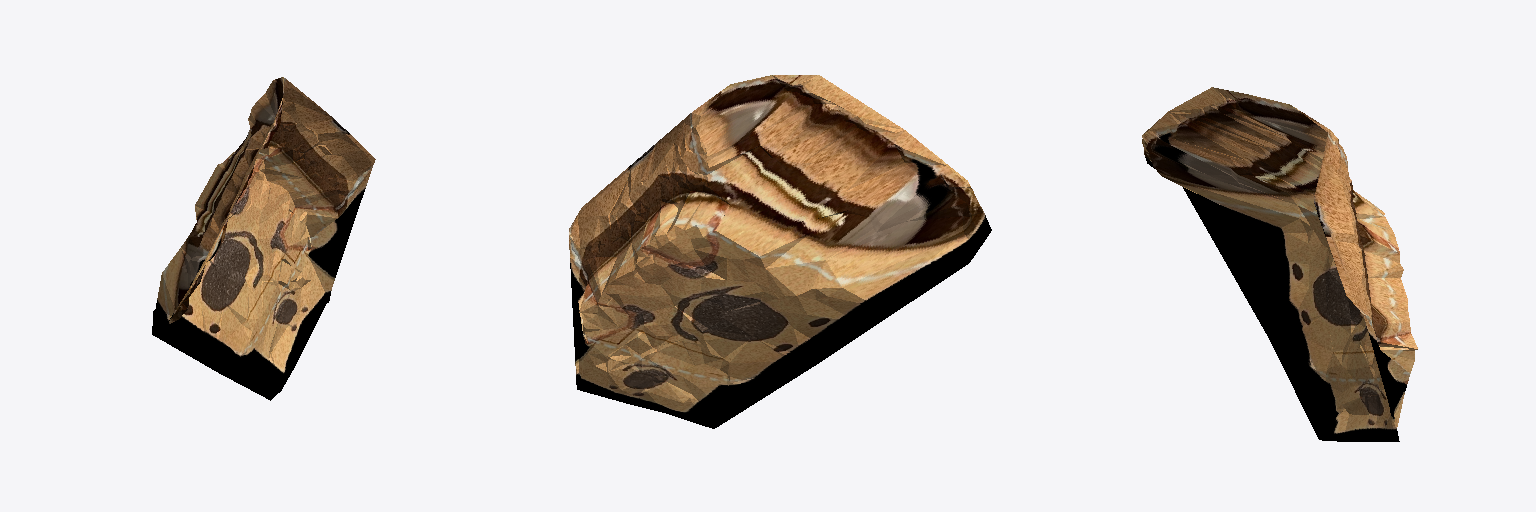
The picture shows the model from 3 angles: view 1: azimuth 30°, elevation 25°; view 2: azimuth 150°, elevation 25°; view 3: azimuth 270°, elevation 25°; orthographic projection.
Size of the model in its own units: 0.4628 by 0.4695 by 0.3522.
Materials: 1 (1 with a texture image).